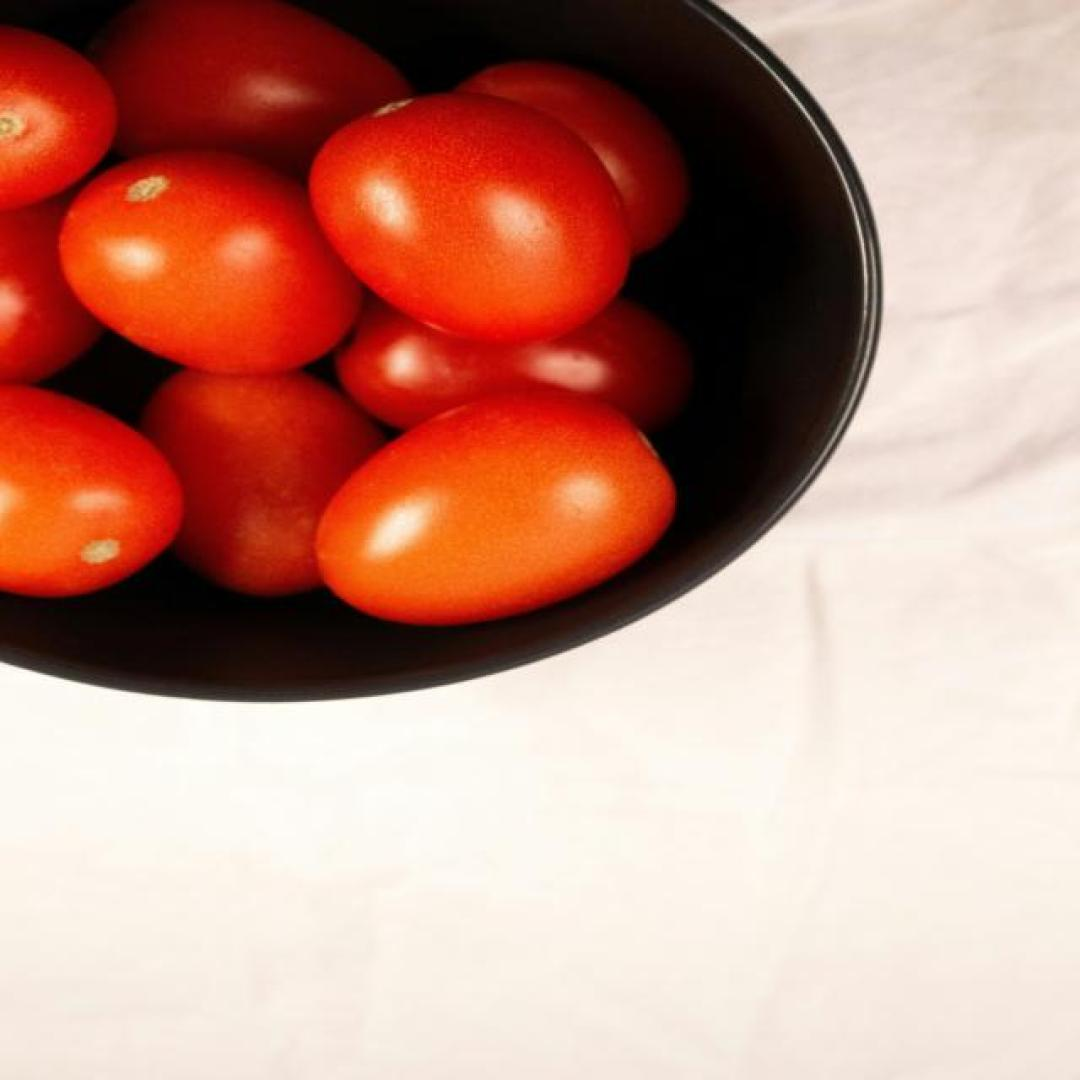matang: (314, 388, 677, 626), (305, 94, 633, 342), (59, 148, 366, 374)
